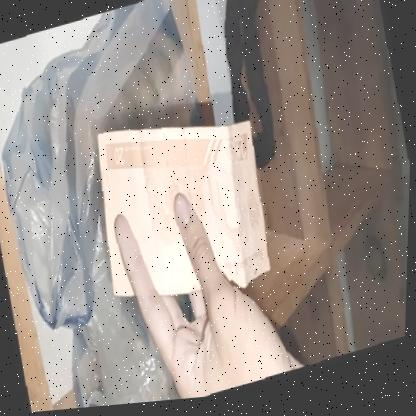vef_back: (82, 95, 283, 328)
